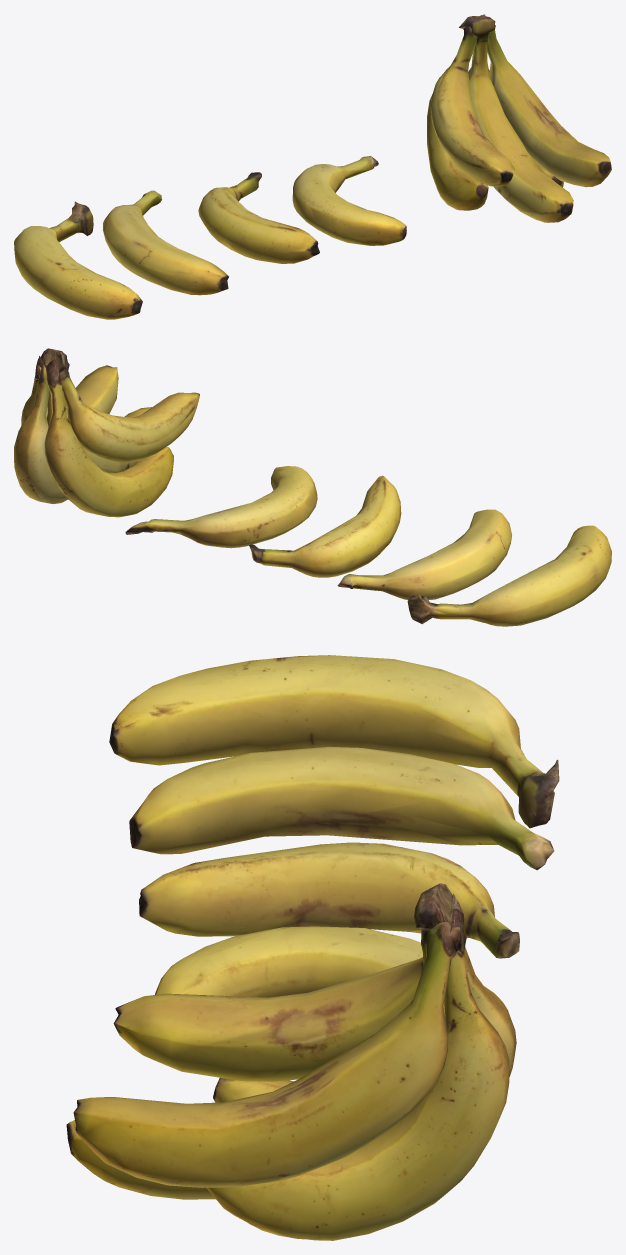
Rendered from bananas.glb.
3 views of the same model, one above another, from view 1: azimuth 30°, elevation 25°; view 2: azimuth 150°, elevation 25°; view 3: azimuth 270°, elevation 25° (orthographic). The views are drawn at different scales.
Parts seen in each view (by area): view 1: bananas_bunch, bananas_d, bananas_c, bananas_a, bananas_b; view 2: bananas_bunch, bananas_d, bananas_c, bananas_a, bananas_b; view 3: bananas_bunch, bananas_d, bananas_c, bananas_b, bananas_a.
Part boxes in pixels (x1=…): bananas_bunch: x1=427, y1=14, x2=611, y2=222; bananas_d: x1=14, y1=201, x2=142, y2=319; bananas_c: x1=103, y1=190, x2=228, y2=295; bananas_a: x1=292, y1=156, x2=406, y2=245; bananas_b: x1=198, y1=172, x2=319, y2=263; bananas_bunch: x1=14, y1=348, x2=199, y2=517; bananas_d: x1=407, y1=525, x2=611, y2=626; bananas_c: x1=337, y1=509, x2=511, y2=599; bananas_a: x1=125, y1=466, x2=317, y2=548; bananas_b: x1=249, y1=475, x2=401, y2=577; bananas_bunch: x1=66, y1=883, x2=516, y2=1240; bananas_d: x1=109, y1=655, x2=559, y2=828; bananas_c: x1=129, y1=746, x2=554, y2=870; bananas_b: x1=139, y1=842, x2=519, y2=958; bananas_a: x1=155, y1=926, x2=422, y2=997.
Size of the model in its own units: 0.5996 by 0.1787 by 0.244.
1 material, 1 textured.
